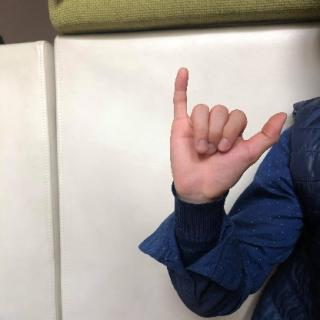YA: (166, 65, 292, 208)
